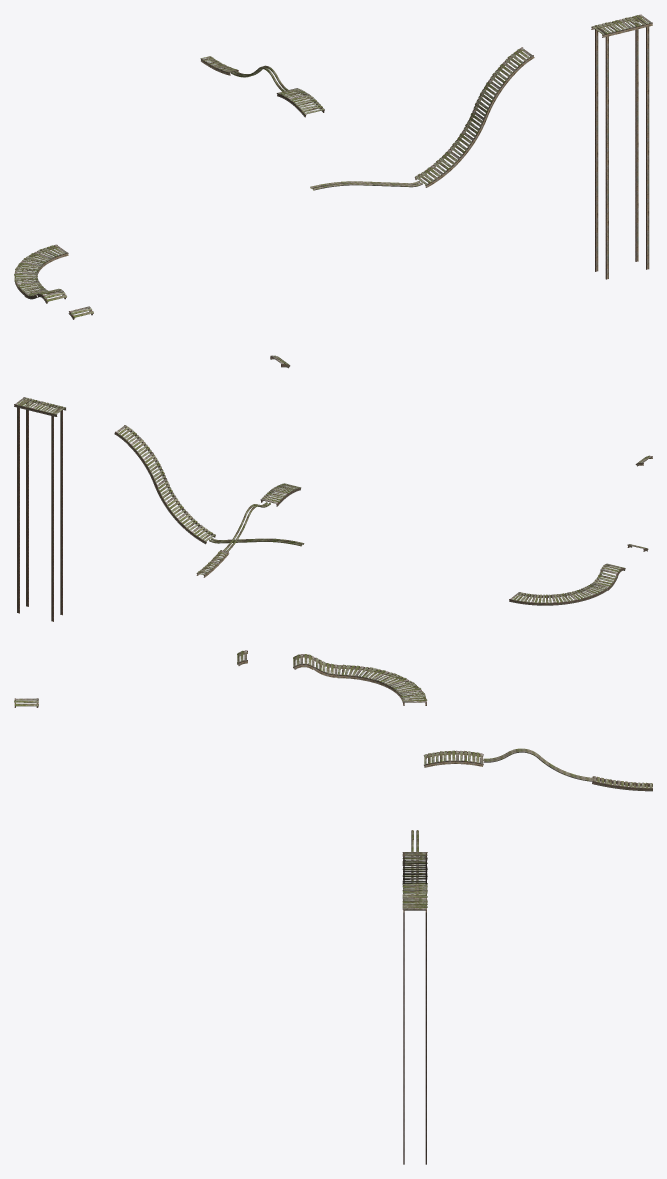
3 views of the same model, one above another, from view 1: azimuth 30°, elevation 25°; view 2: azimuth 150°, elevation 25°; view 3: azimuth 270°, elevation 25° (orthographic). The views are drawn at different scales.
Parts seen in each view (by area): view 1: Ramp.002, Ramp.005, Ramp.012, Ramp.004, Ramp.039, Ramp.006; view 2: Ramp.002, Ramp.012, Ramp.005, Ramp.004, Ramp.039, Ramp.006, Ramp.041; view 3: Ramp.002, Ramp.012, Ramp.039.
Part boxes in pixels (x1,y1,x2,y2): Ramp.002: (591,14,652,279); Ramp.005: (414,109,487,187); Ramp.012: (14,244,68,295); Ramp.004: (473,61,517,117); Ramp.039: (276,88,324,117); Ramp.006: (310,180,422,190); Ramp.002: (14,397,65,621); Ramp.012: (509,584,607,605); Ramp.005: (154,477,215,544); Ramp.004: (128,437,165,484); Ramp.039: (260,483,301,506); Ramp.006: (209,538,304,546); Ramp.041: (196,550,229,577); Ramp.002: (402,884,427,1164); Ramp.012: (337,664,427,705); Ramp.039: (423,750,483,767).
Size of the model in its own units: 6545 by 2330 by 5249.
